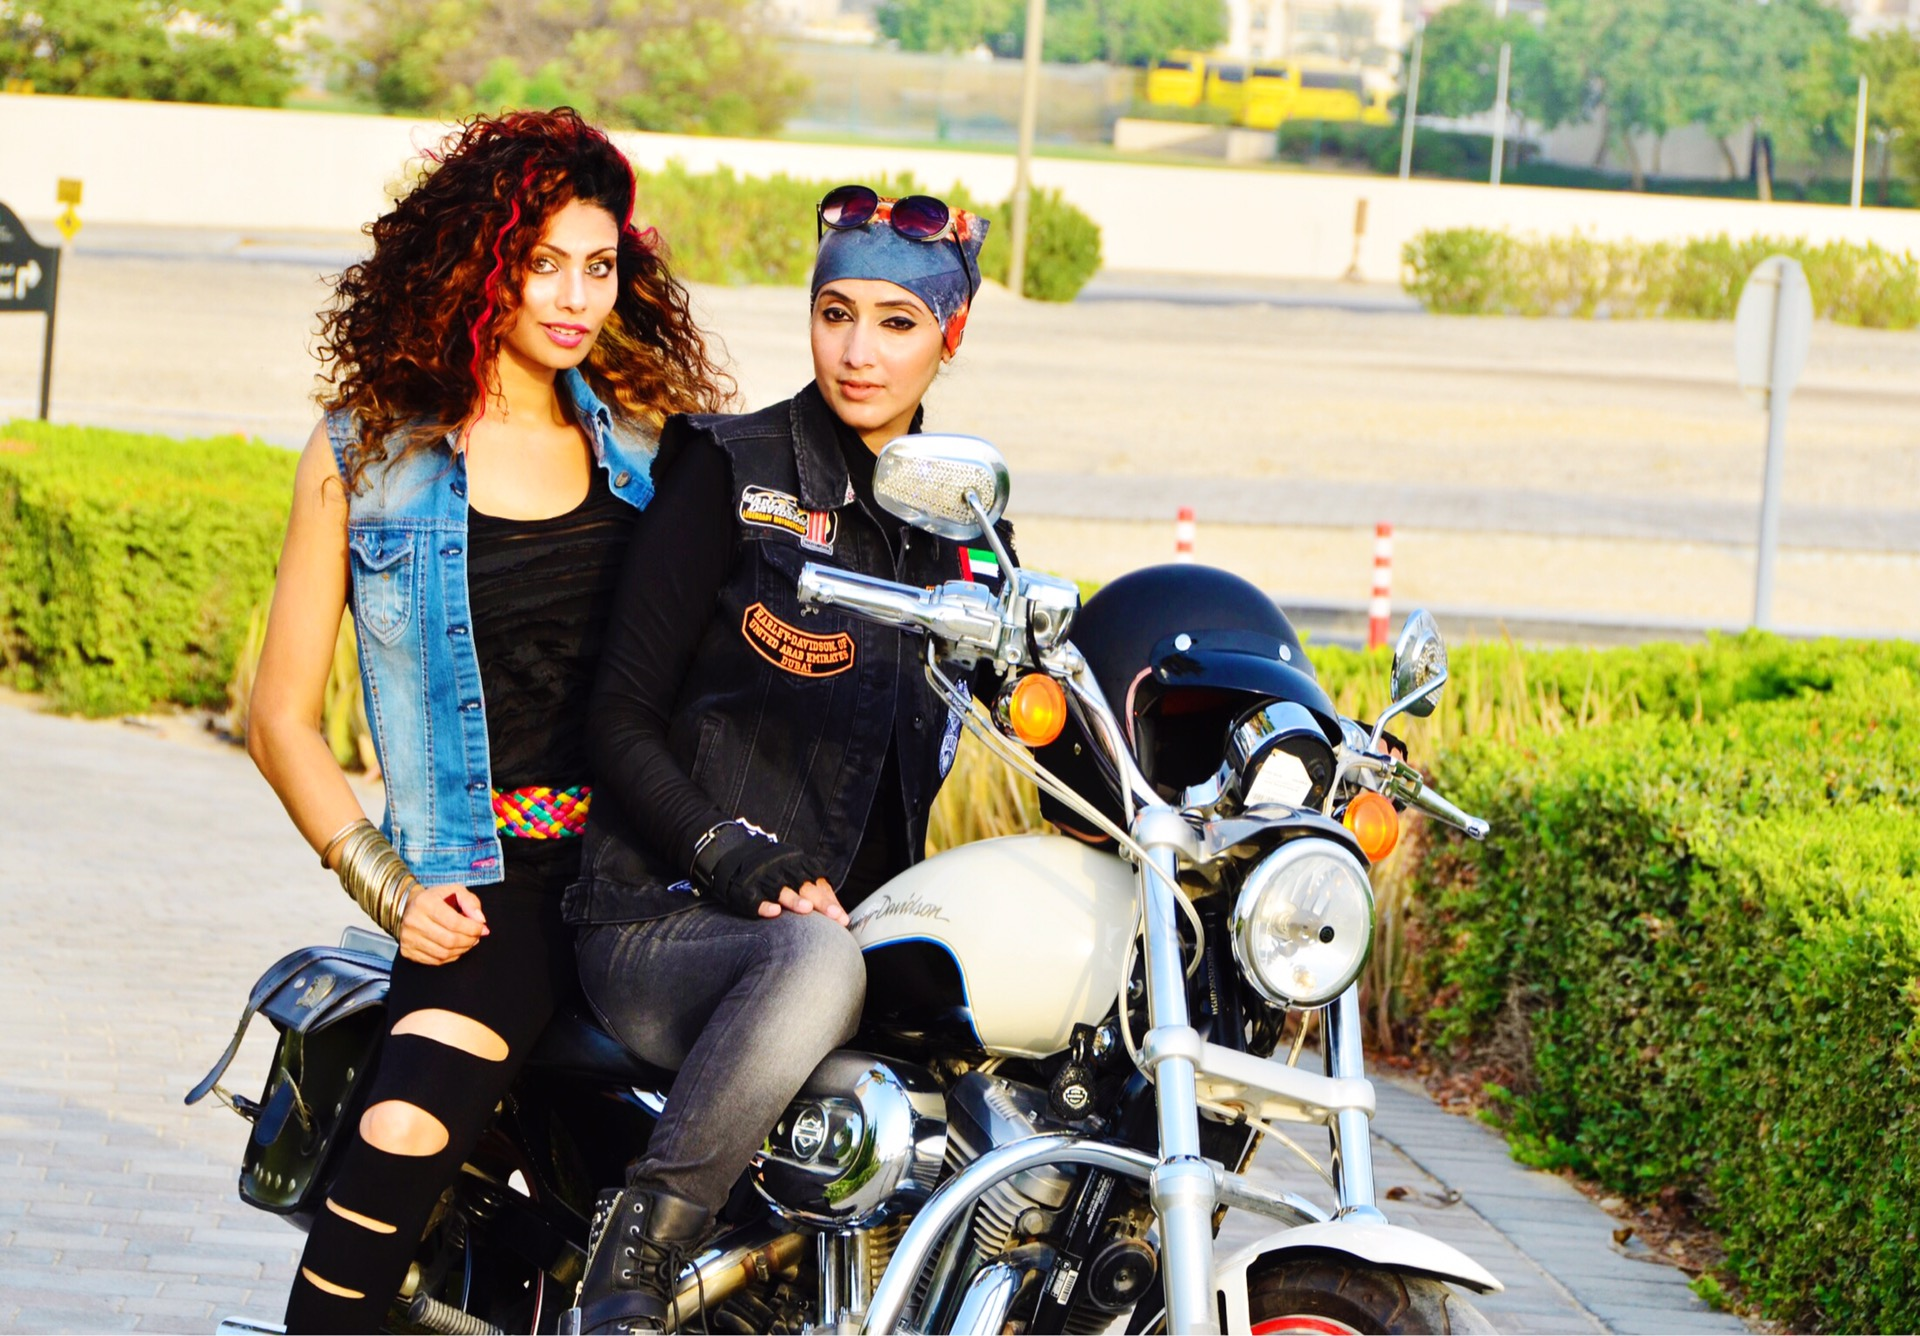with_helmet: (1036, 567, 1319, 847)
